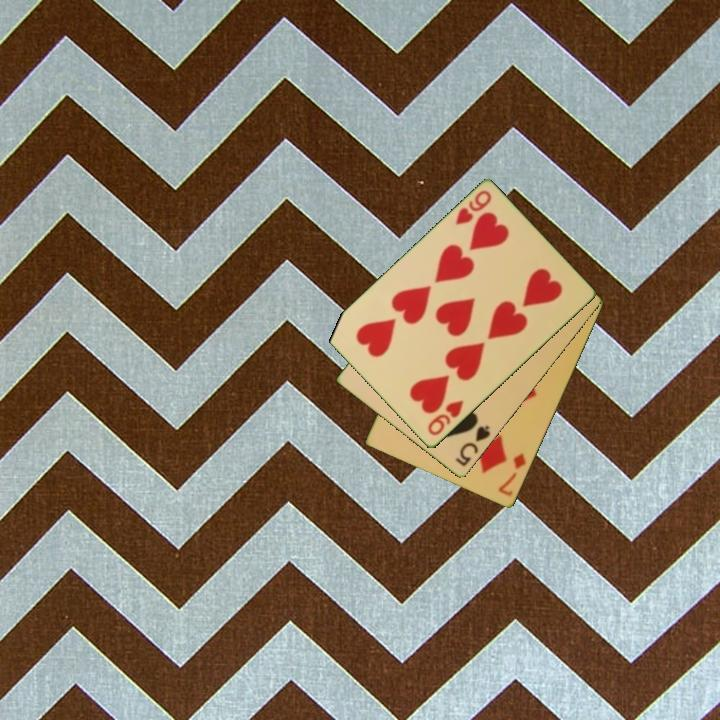5s: (452, 422, 493, 470)
7d: (495, 450, 529, 499)
9h: (451, 187, 495, 229), (424, 397, 467, 439)
